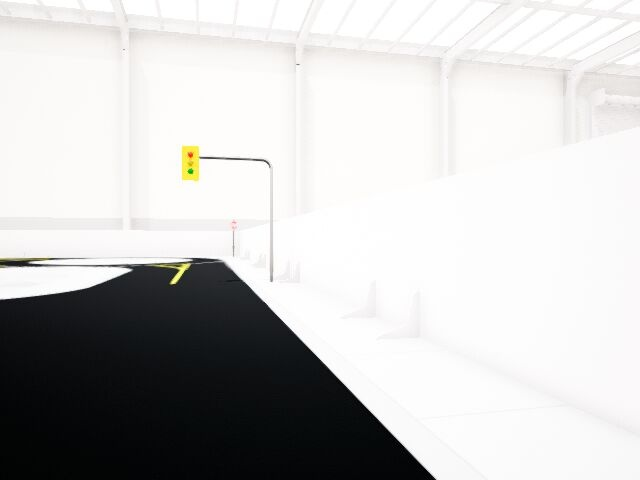red: (182, 147, 199, 181)
